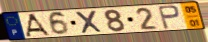2: (135, 7, 159, 31)
6: (47, 10, 71, 37)
8: (103, 9, 127, 33)
A: (25, 13, 53, 38)
P: (157, 4, 182, 30)
X: (74, 9, 105, 34)
